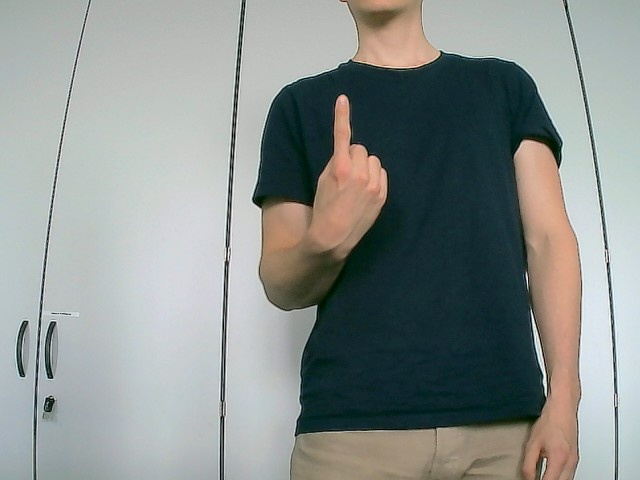up: (307, 93, 389, 259)
